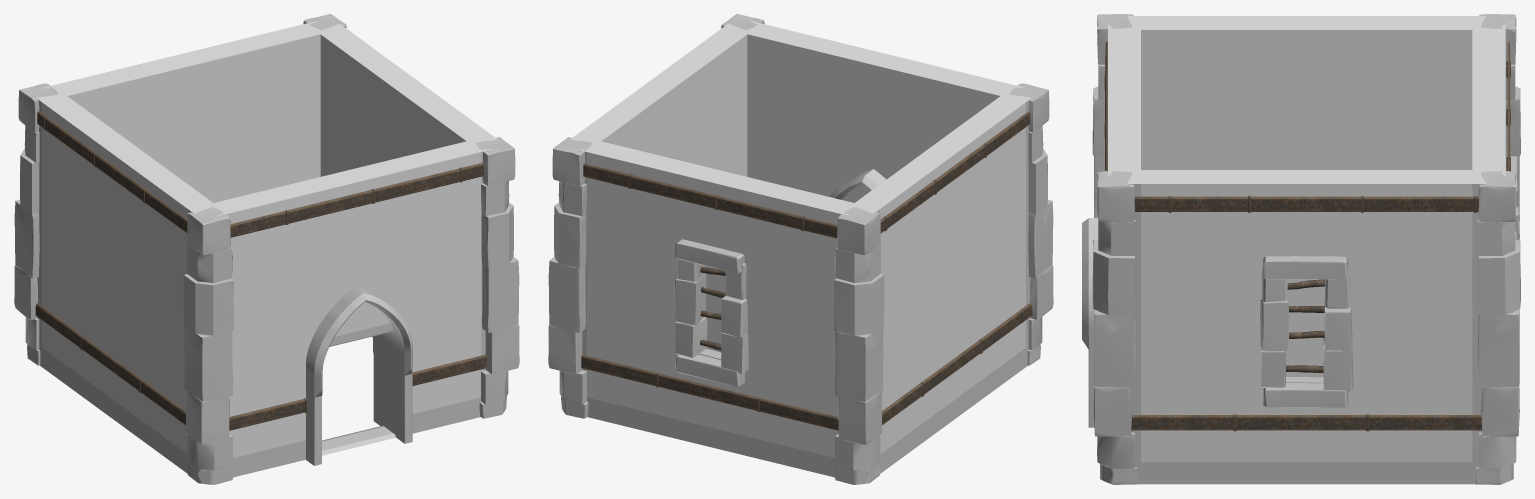
3 renders of one model, left to right at view 1: azimuth 30°, elevation 25°; view 2: azimuth 150°, elevation 25°; view 3: azimuth 270°, elevation 25°, orthographic. The views are drawn at different scales.
Parts seen in each view (by area): view 1: SM_Dowdun_Tower_Room_12x12_01_LOD0; view 2: SM_Dowdun_Tower_Room_12x12_01_LOD0; view 3: SM_Dowdun_Tower_Room_12x12_01_LOD0.
Part boxes in pixels (x1=…): SM_Dowdun_Tower_Room_12x12_01_LOD0: x1=14, y1=14, x2=519, y2=484; SM_Dowdun_Tower_Room_12x12_01_LOD0: x1=548, y1=14, x2=1053, y2=484; SM_Dowdun_Tower_Room_12x12_01_LOD0: x1=1082, y1=14, x2=1520, y2=484.
Size of the model in its own units: 12.73 by 10.01 by 13.25.
